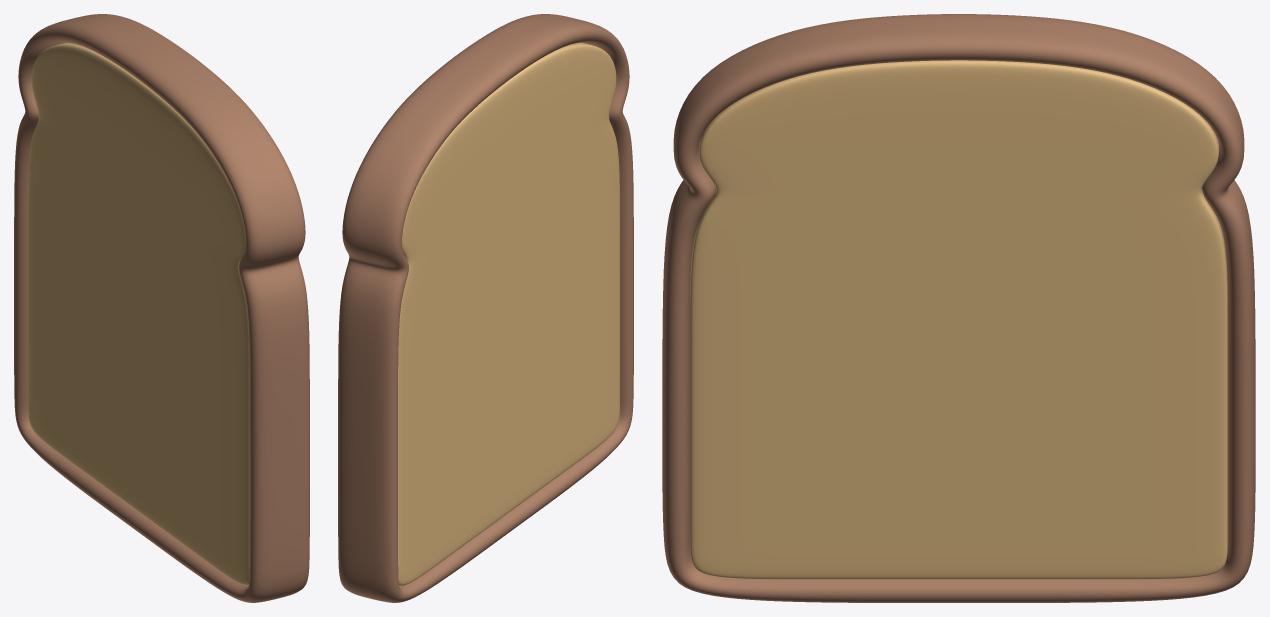
The model's file is bread.fbx.
3 views of the same model, side by side, from view 1: azimuth 30°, elevation 25°; view 2: azimuth 150°, elevation 25°; view 3: azimuth 270°, elevation 25° (orthographic). The views are drawn at different scales.
Parts seen in each view (by area): view 1: Plane, Plane.001; view 2: Plane, Plane.001; view 3: Plane, Plane.001.
Part boxes in pixels (x1,y1,x2,y2): Plane: [28, 42, 249, 585]; Plane.001: [14, 14, 309, 602]; Plane: [398, 42, 619, 585]; Plane.001: [338, 14, 633, 602]; Plane: [690, 60, 1227, 579]; Plane.001: [662, 14, 1255, 602].
Bounding box in the file's own units: 43.9 × 345 × 327.
